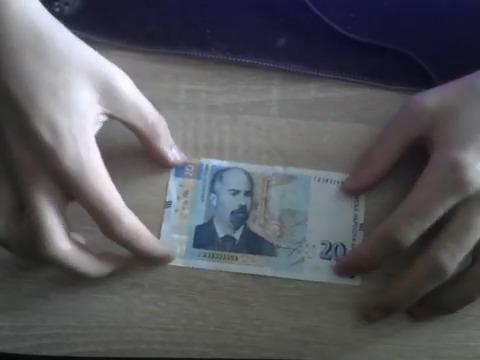20leva: (194, 166, 275, 257)
